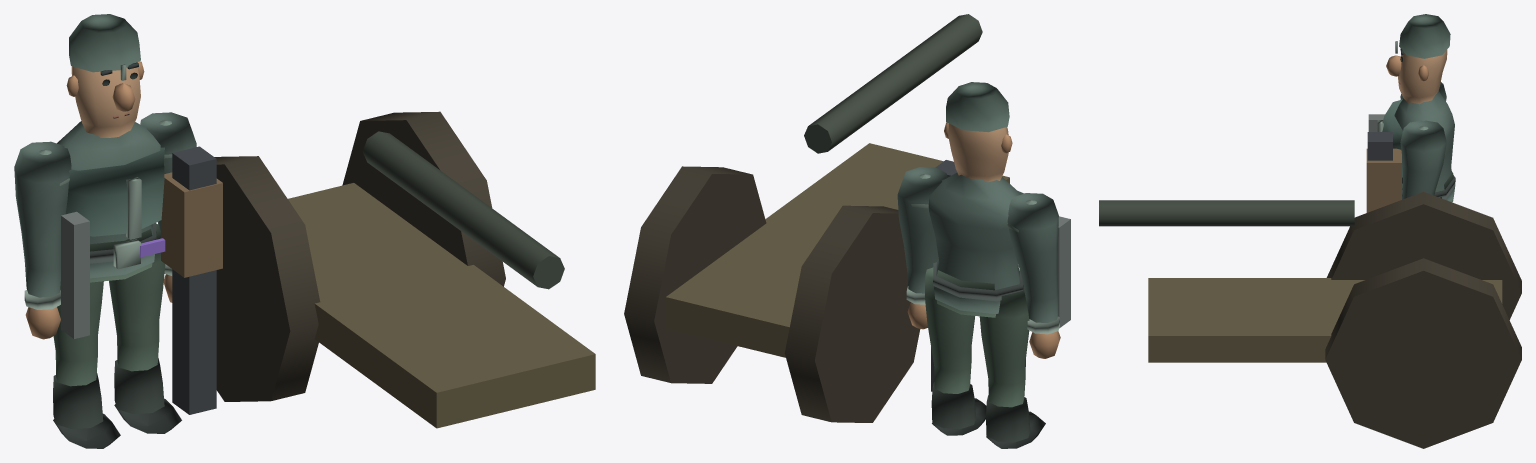
Rendered from machinegun_team_team2.glb.
3 views of the same model, side by side, from view 1: azimuth 30°, elevation 25°; view 2: azimuth 150°, elevation 25°; view 3: azimuth 270°, elevation 25° (orthographic). The views are drawn at different scales.
Parts seen in each view (by area): view 1: part_10, part_11, part_0, part_12, part_13, part_2, part_8, part_5, part_1, part_7, part_6, part_3 (+1 smaller); view 2: part_11, part_10, part_12, part_0, part_13, part_7, part_2, part_8, part_1, part_4, part_3; view 3: part_12, part_10, part_11, part_13, part_1, part_4, part_0, part_6, part_5.
Part boxes in pixels (box(x1,y1,x2,y2)): part_10: box(288, 183, 595, 428); part_11: box(214, 156, 320, 401); part_0: box(57, 121, 164, 282); part_12: box(342, 111, 505, 286); part_13: box(362, 131, 564, 289); part_2: box(14, 141, 71, 339); part_8: box(109, 224, 181, 433); part_5: box(172, 146, 216, 414); part_1: box(66, 14, 144, 137); part_7: box(53, 281, 120, 448); part_6: box(161, 172, 222, 277); part_3: box(61, 211, 89, 338); part_11: box(784, 205, 920, 422); part_10: box(665, 143, 1009, 357); part_12: box(624, 166, 766, 383); part_0: box(928, 172, 1023, 317); part_13: box(804, 14, 982, 153); part_7: box(979, 287, 1045, 448); part_2: box(1007, 193, 1060, 358); part_8: box(925, 267, 986, 435); part_1: box(944, 82, 1012, 182); part_4: box(897, 167, 947, 329); part_3: box(1057, 216, 1070, 328); part_12: box(1325, 258, 1521, 448); part_10: box(1148, 278, 1502, 362); part_11: box(1326, 191, 1521, 319); part_13: box(1099, 200, 1354, 226); part_1: box(1386, 14, 1450, 104); part_4: box(1400, 120, 1446, 199); part_0: box(1377, 91, 1455, 202); part_6: box(1366, 148, 1401, 212); part_5: box(1367, 132, 1392, 160).
Bounding box in the file's own units: 1.86 × 1.71 × 2.15.
